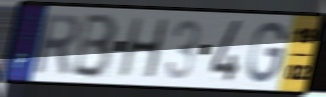3: (165, 18, 201, 81)
4: (207, 18, 245, 85)
B: (69, 12, 120, 81)
G: (246, 20, 289, 85)
H: (116, 16, 171, 80)
R: (32, 11, 81, 76)
